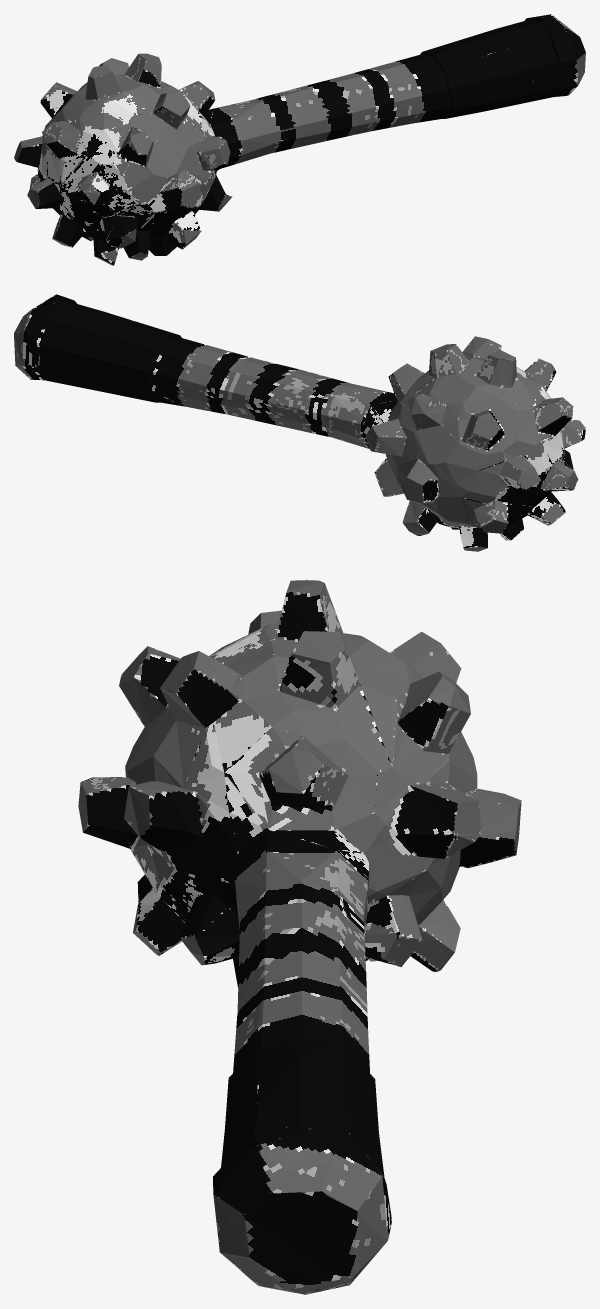
3 views of the same model, one above another, from view 1: azimuth 30°, elevation 25°; view 2: azimuth 150°, elevation 25°; view 3: azimuth 270°, elevation 25° (orthographic). The views are drawn at different scales.
Parts seen in each view (by area): view 1: OBJ00e; view 2: OBJ00e; view 3: OBJ00e.
Part boxes in pixels (x1,y1,x2,y2): OBJ00e: [14, 14, 585, 265]; OBJ00e: [14, 294, 585, 551]; OBJ00e: [78, 580, 521, 1294].
Size of the model in its own units: 0.3884 by 0.1315 by 0.1383.
Materials: 1 (1 with a texture image).
